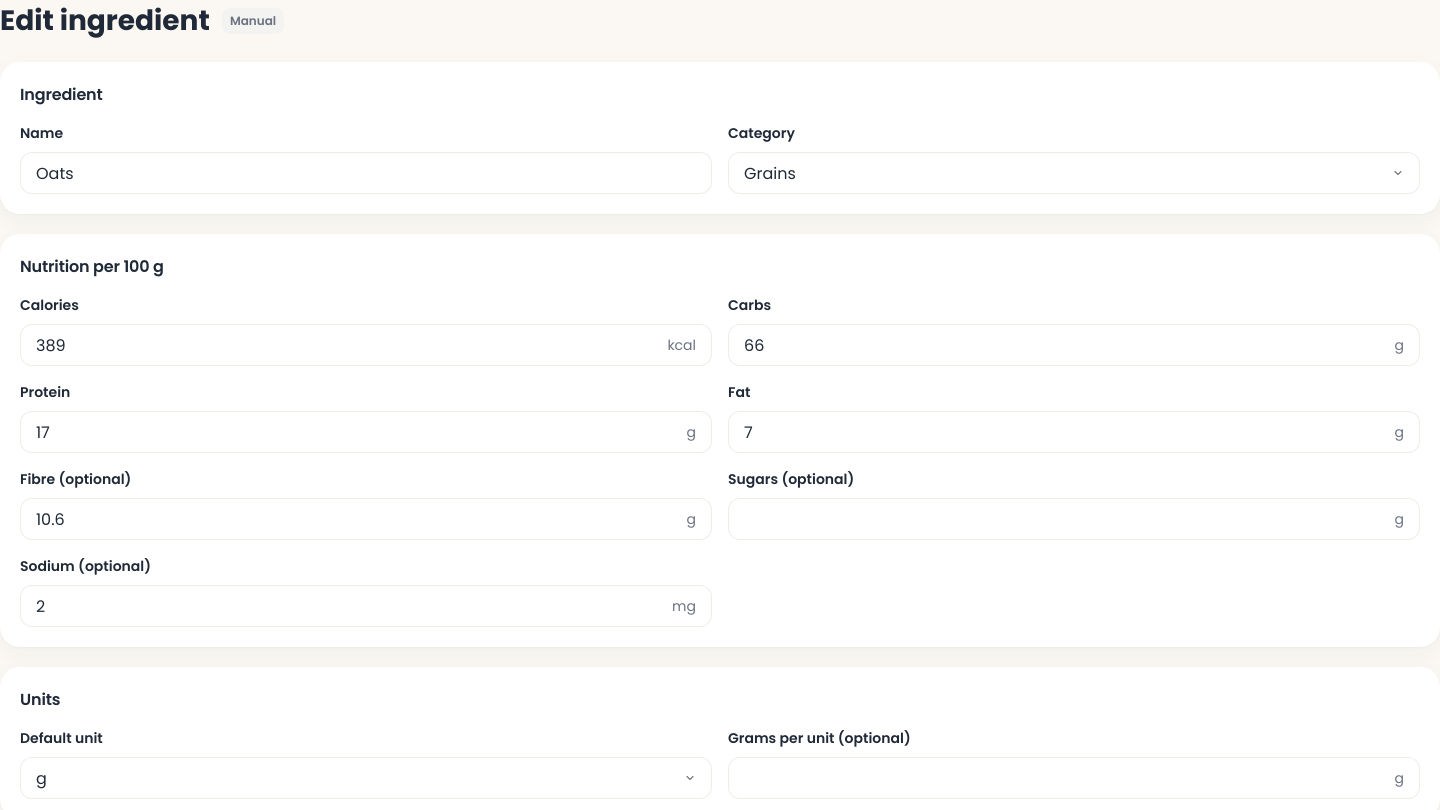
Test: IngredientEditor › AC-2: a negative value or an empty kcal shows field errors and saves nothing
Clear the number field labelled "Calories" at {"x": 348, "y": 345}, box [36,324,659,366]
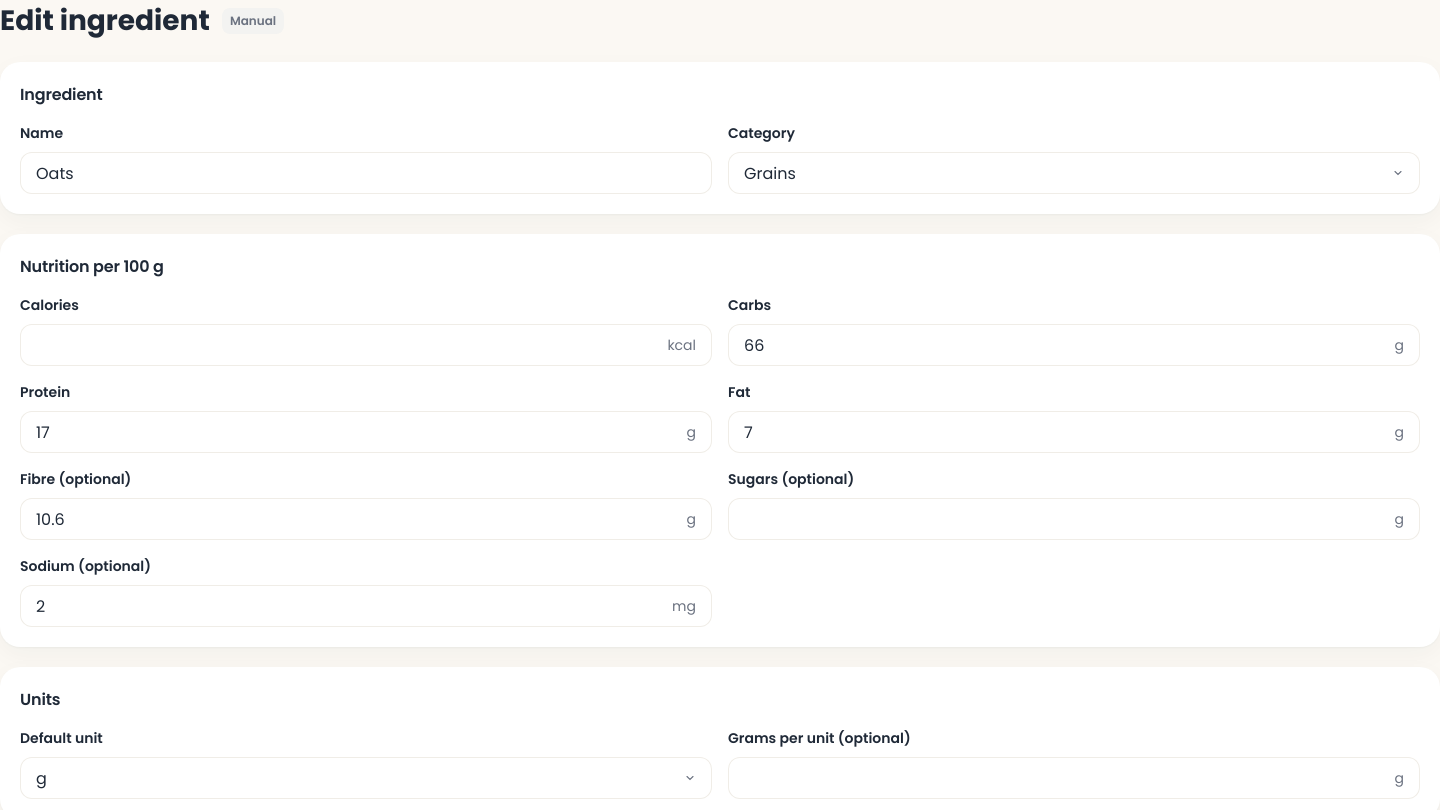
Replace the text in the number field labelled "Fat" with "-1" at {"x": 1065, "y": 432}, box [744,412,1386,452]
(page scrolled)
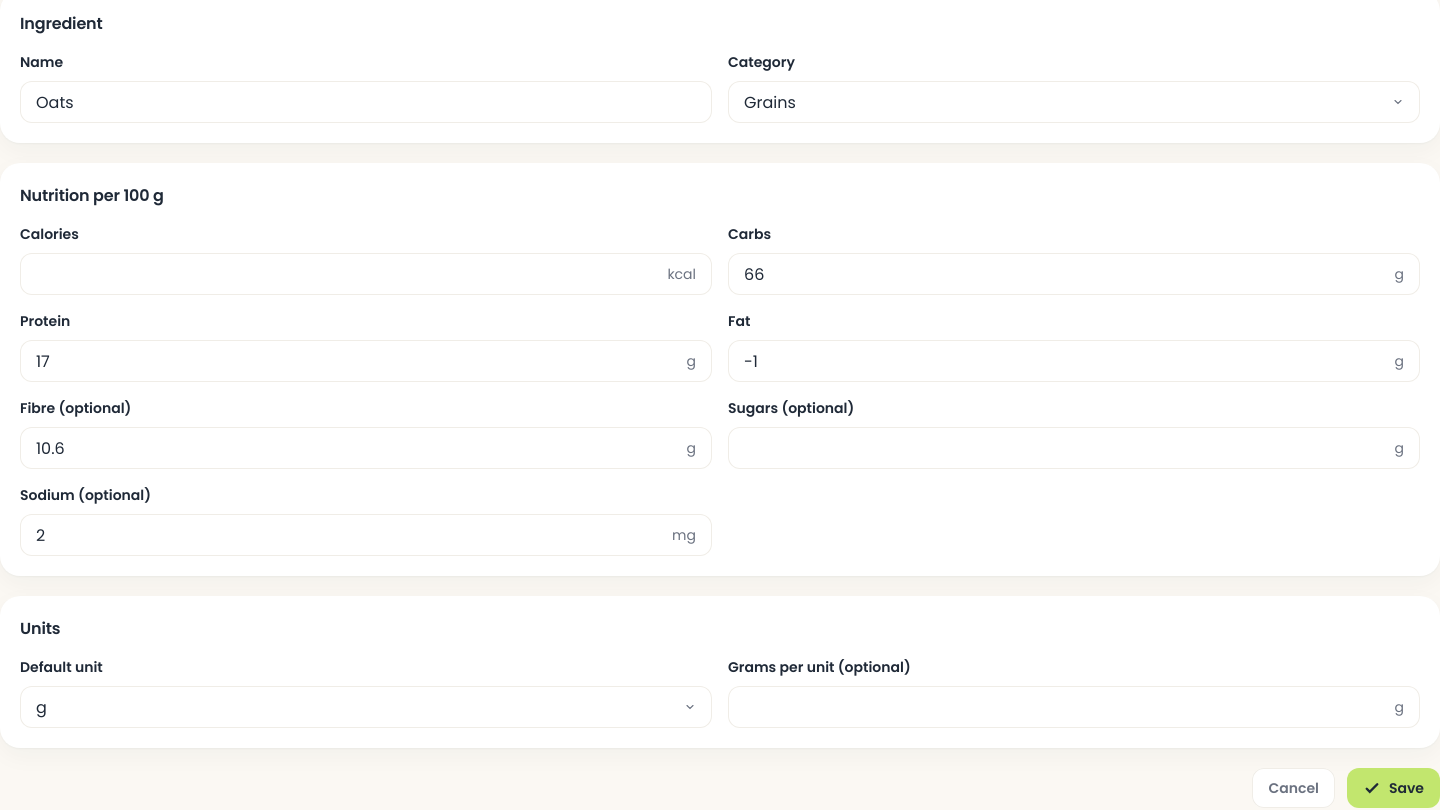
Click the button "Save".
click(1394, 788)  # box [1347,768,1439,808]
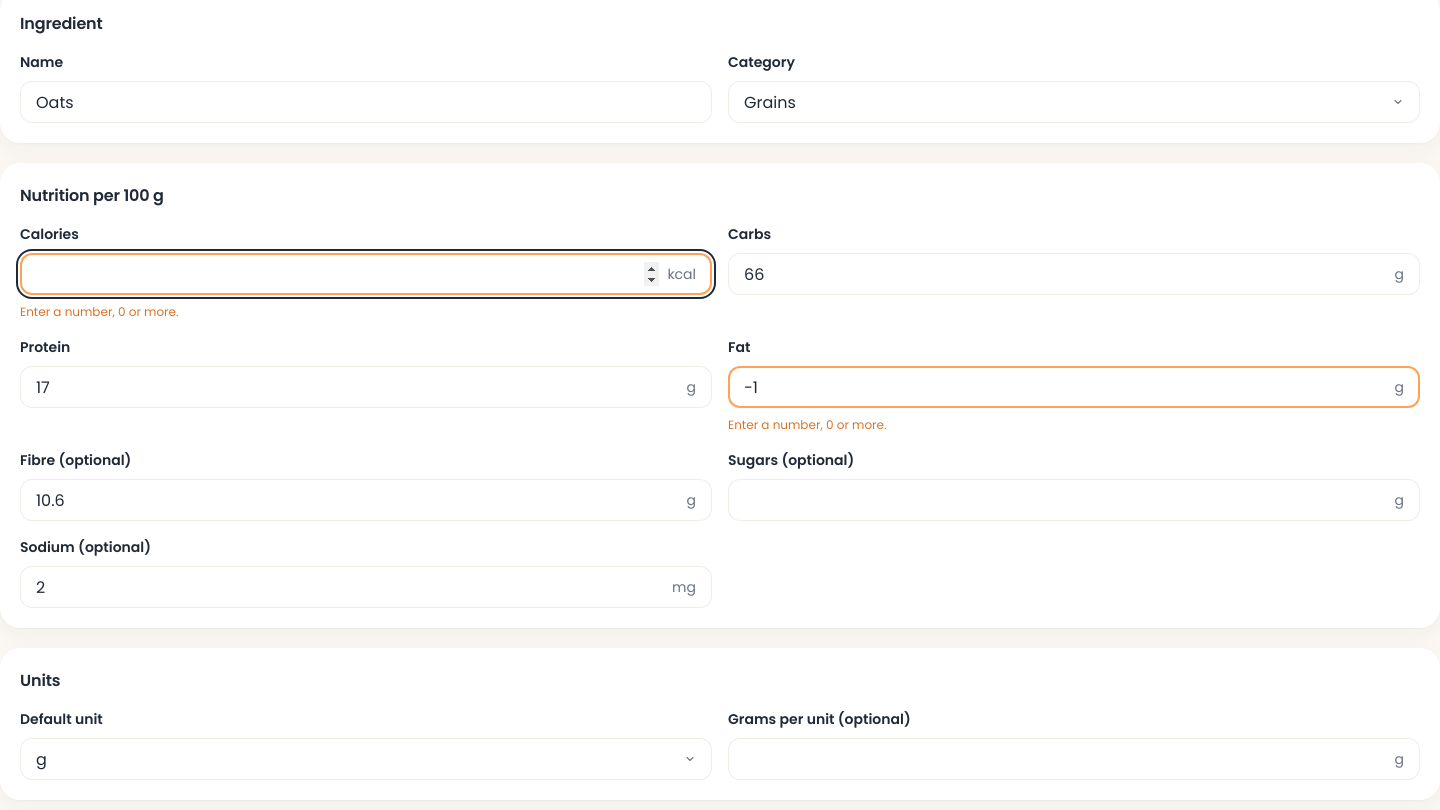
Now the message "Enter a number, 0 or more." below "kcal" is shown, box [20,303,178,320]
